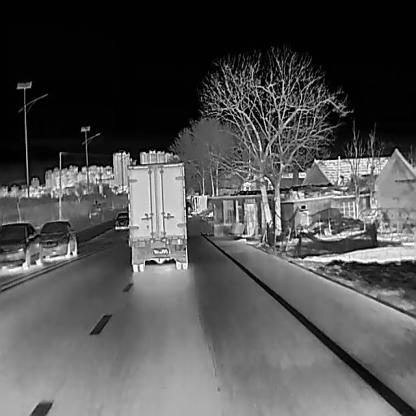car: (0, 220, 42, 268), (37, 219, 78, 260), (114, 211, 130, 229)
truck: (125, 161, 189, 271)
